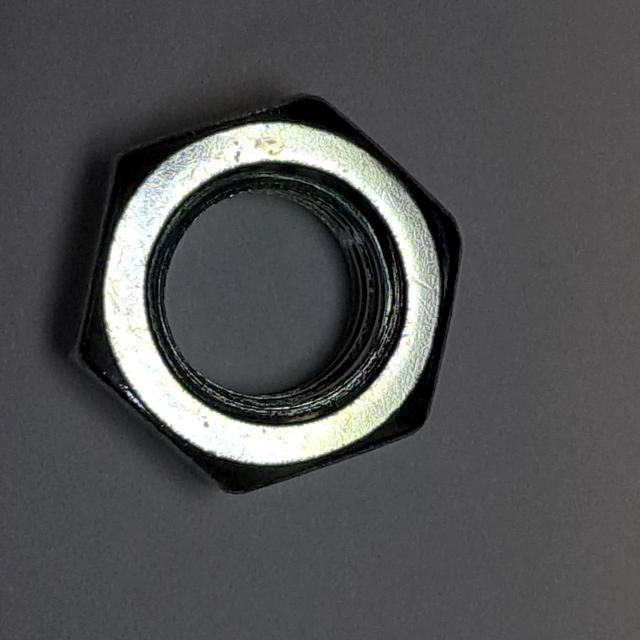Excellent: (49, 85, 479, 508)
